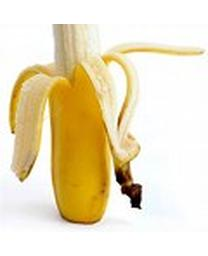banana: (10, 23, 144, 222)
